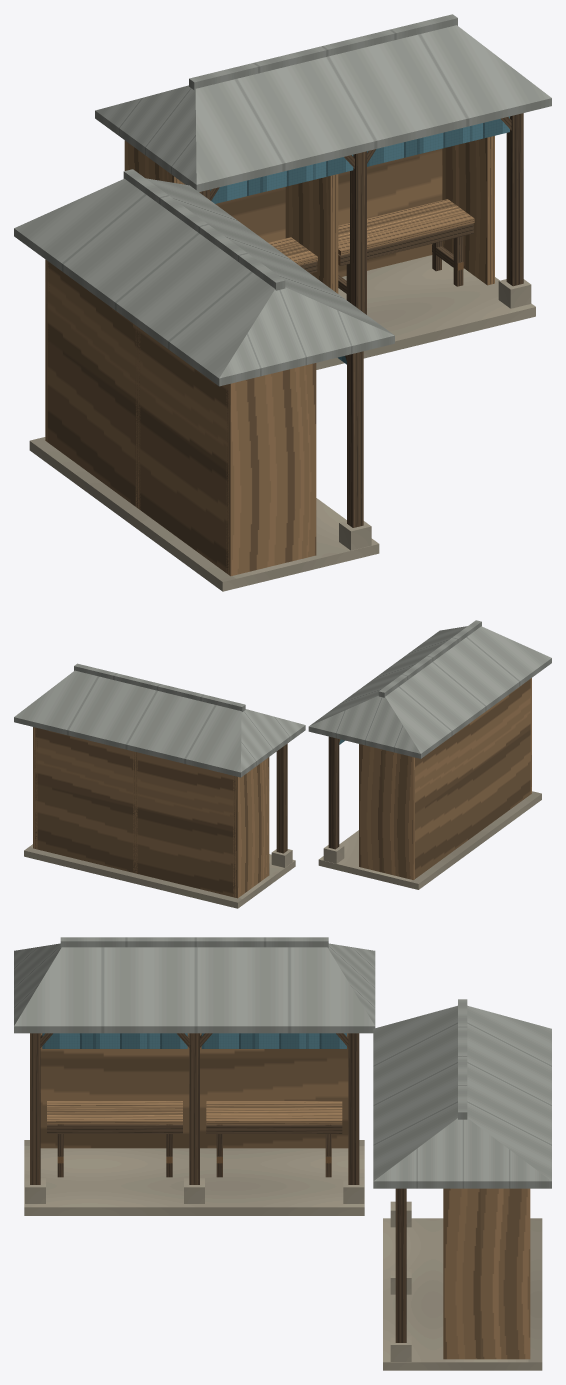
3 renders of one model, top to bottom at view 1: azimuth 30°, elevation 25°; view 2: azimuth 150°, elevation 25°; view 3: azimuth 270°, elevation 25°, orthographic. The views are drawn at different scales.
Parts seen in each view (by area): view 1: mbabane; view 2: mbabane; view 3: mbabane.
Part boxes in pixels (bbox=[...]): mbabane: bbox=[14, 14, 551, 591]; mbabane: bbox=[14, 620, 551, 908]; mbabane: bbox=[14, 937, 551, 1370].
Bounding box in the file's own units: 5.09 × 2.5 × 5.02.
1 material, 1 textured.
